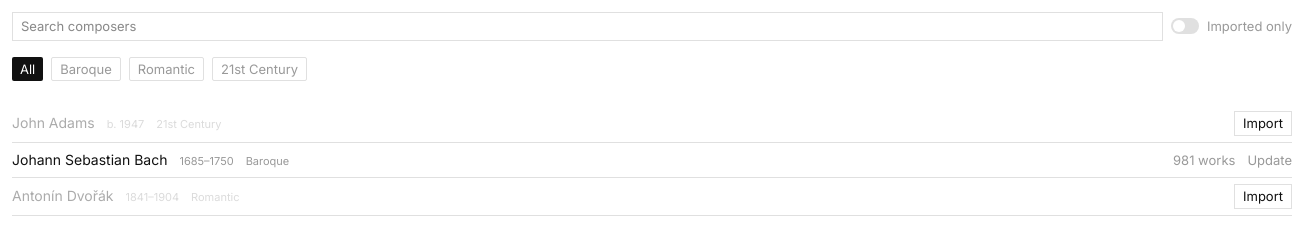
LibraryBrowser › keeps the imported works when movements fail
Click the button with aria-label "Import Antonín Dvořák" at (1263, 196), box [1234,184,1292,209]
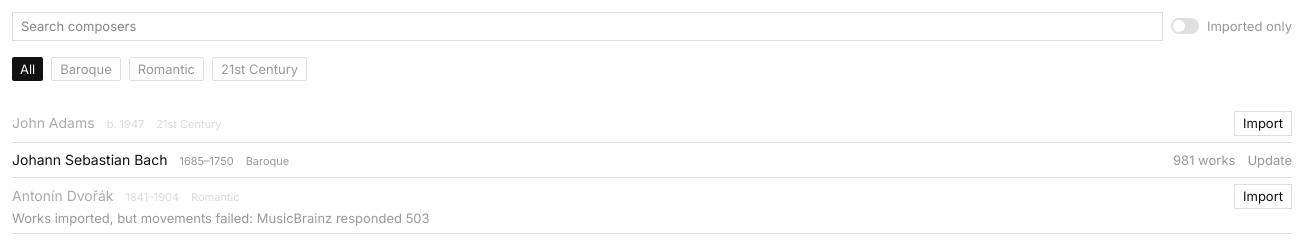
Expected: the text "Works imported, but movements failed: MusicBrainz responded 503" is shown, [12,210,430,226]
